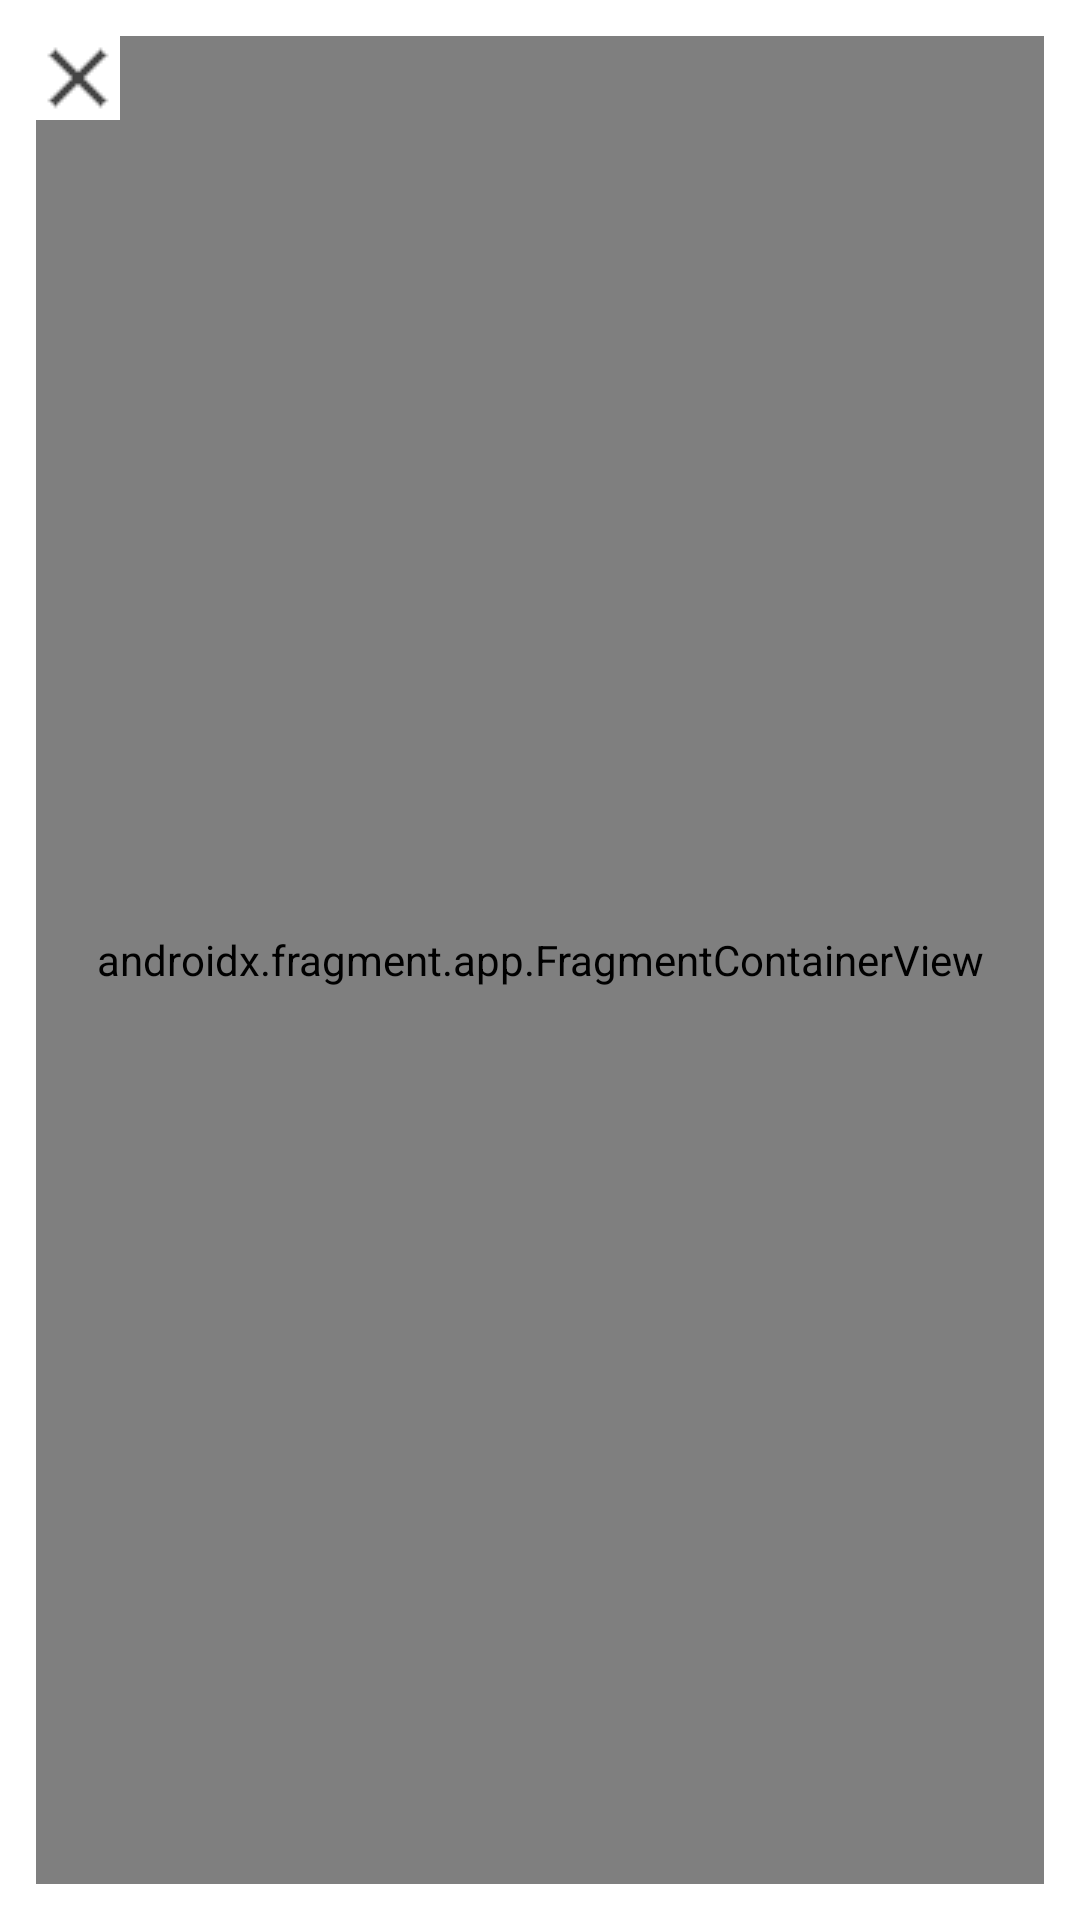

Icon bounding boxes for this 1080px x 1920px phone screenshot, format [x1,y1,x2,y2]:
close: [48,48,108,108]
